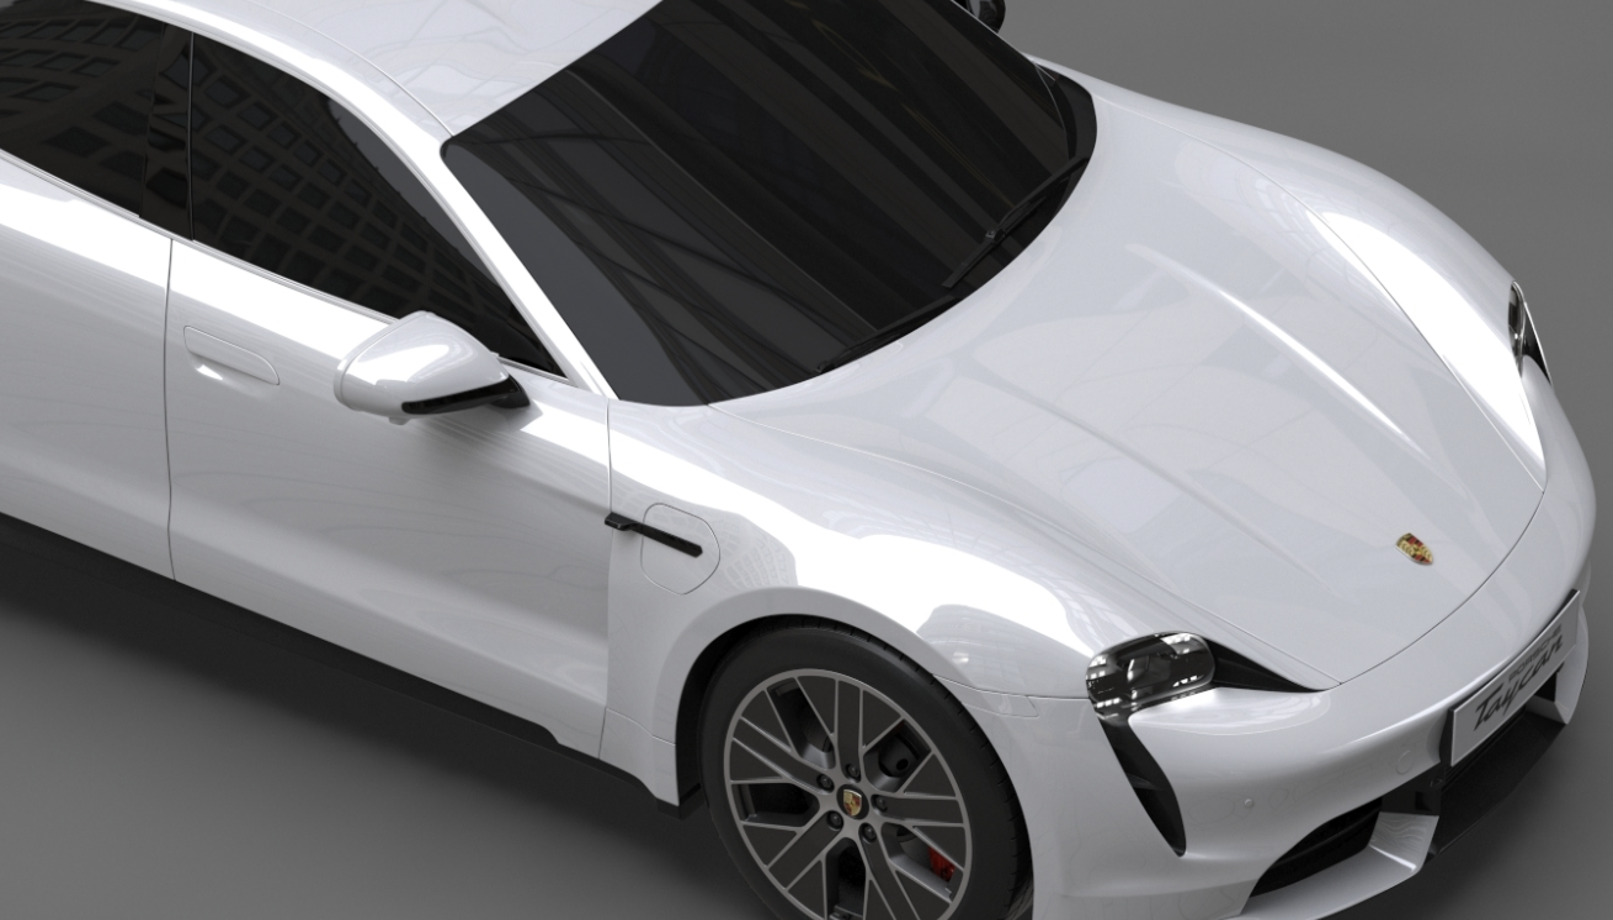hatch: (631, 494, 728, 604)
